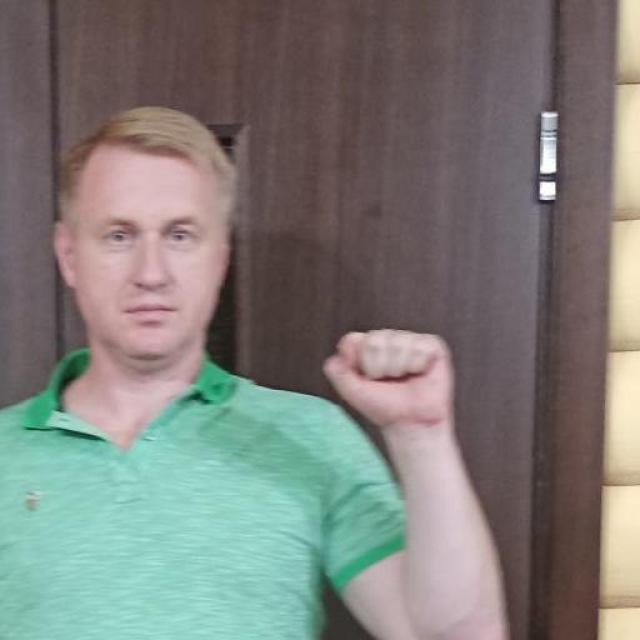hand: (322, 326, 457, 429)
